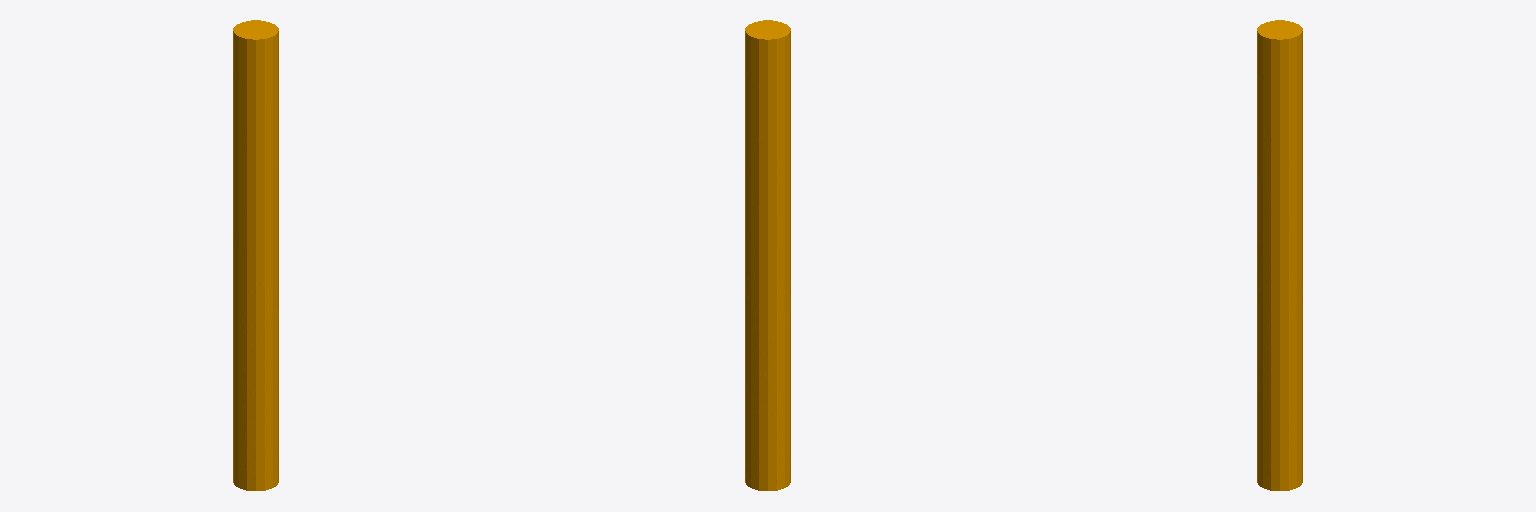
The robot description file, URDF, robot "00004_plug":
<?xml version="1.0"?>
<robot name="00004_plug">
	<link name="00004_plug">
		<visual>
			<geometry>
				<mesh filename="../mesh/00004/asset_plug.obj"/>
			</geometry>
		</visual>
		<collision>
			<geometry>
				<mesh filename="../mesh/00004/asset_plug.obj"/>
			</geometry>
			<sdf resolution="256"/>
		</collision>
	</link>
</robot>

--- What the picture shows (computed from the rendered views, not written in the file) ---
3 views of the same robot in one strip: view 1: azimuth 30°, elevation 25°; view 2: azimuth 150°, elevation 25°; view 3: azimuth 270°, elevation 25° (orthographic).
Robot: 00004_plug — 1 links, 0 joints (none); root link 00004_plug; default pose: every joint at zero.
Links seen in each view (by area): view 1: 00004_plug; view 2: 00004_plug; view 3: 00004_plug.
Boxes of the visible links, x1,y1,x2,y2 form: 00004_plug: [233, 20, 278, 490]; 00004_plug: [745, 20, 790, 490]; 00004_plug: [1257, 20, 1302, 490].
Size in the robot's own frame: 0.0069 by 0.0069 by 0.0754 metres.
1 mesh visuals loaded from 1 distinct referenced files (1 OBJ).
